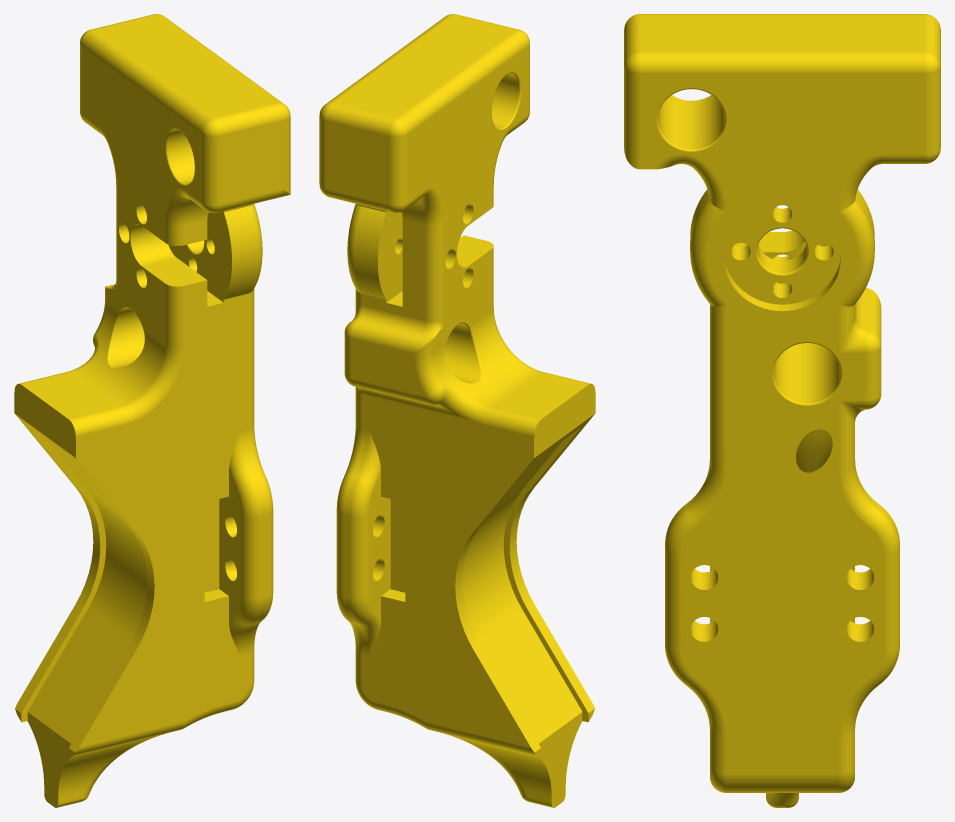
The model's file is A26_H103_rightClaw.gltf.
3 renders of one model, left to right at view 1: azimuth 30°, elevation 25°; view 2: azimuth 150°, elevation 25°; view 3: azimuth 270°, elevation 25°, orthographic. The views are drawn at different scales.
Parts seen in each view (by area): view 1: mesh814, mesh864, mesh800, mesh845, mesh846, mesh805, mesh809, mesh801, mesh869, mesh810, mesh752, mesh681 (+33 smaller); view 2: mesh851, mesh864, mesh800, mesh845, mesh846, mesh794, mesh809, mesh801, mesh778, mesh744, mesh810, mesh779 (+38 smaller); view 3: mesh859, mesh800, mesh798, mesh874, mesh849, mesh862, mesh703, mesh705, mesh751, mesh781, mesh695, mesh724 (+21 smaller).
Part boxes in pixels (bbox=[...]): mesh814: bbox=[76, 280, 247, 746]; mesh864: bbox=[81, 46, 201, 344]; mesh800: bbox=[94, 15, 275, 118]; mesh845: bbox=[27, 608, 131, 743]; mesh846: bbox=[88, 491, 147, 640]; mesh805: bbox=[220, 121, 283, 204]; mesh809: bbox=[70, 303, 165, 407]; mesh801: bbox=[82, 30, 213, 133]; mesh869: bbox=[168, 211, 231, 302]; mesh810: bbox=[22, 373, 116, 419]; mesh752: bbox=[224, 207, 255, 299]; mesh681: bbox=[219, 472, 240, 620]; mesh851: bbox=[362, 395, 533, 746]; mesh864: bbox=[408, 46, 528, 353]; mesh800: bbox=[334, 15, 515, 118]; mesh845: bbox=[478, 608, 582, 743]; mesh846: bbox=[462, 491, 521, 640]; mesh794: bbox=[326, 121, 389, 204]; mesh809: bbox=[433, 311, 539, 407]; mesh801: bbox=[396, 30, 527, 133]; mesh778: bbox=[362, 220, 425, 320]; mesh744: bbox=[351, 338, 425, 396]; mesh810: bbox=[493, 373, 587, 419]; mesh779: bbox=[354, 207, 385, 299]; mesh859: bbox=[640, 73, 924, 773]; mesh800: bbox=[640, 15, 924, 51]; mesh798: bbox=[640, 51, 924, 73]; mesh874: bbox=[724, 205, 840, 304]; mesh849: bbox=[774, 343, 840, 403]; mesh862: bbox=[658, 95, 724, 149]; mesh703: bbox=[710, 304, 726, 469]; mesh705: bbox=[726, 774, 838, 792]; mesh751: bbox=[690, 200, 725, 306]; mesh781: bbox=[839, 200, 874, 306]; mesh695: bbox=[665, 550, 681, 651]; mesh724: bbox=[883, 550, 899, 651].
Size of the model in its own units: 0.0483 by 0.1773 by 0.061.
